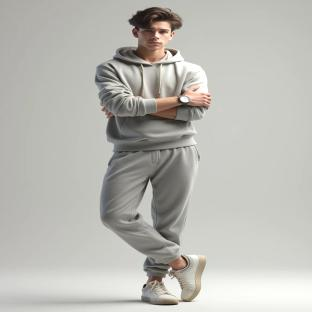Human: (95, 8, 212, 304)
